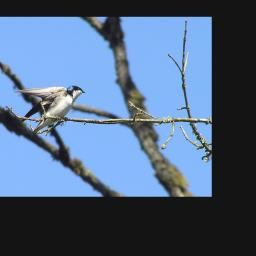Swallow: (13, 84, 86, 138)
